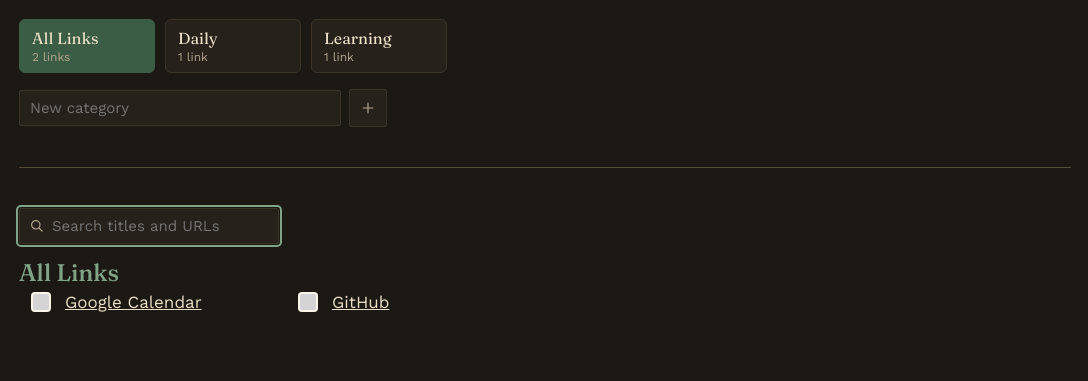
Test: UserFavorites: links › edits a link title and URL
Click the button "Daily 1 link": {"x": 233, "y": 46} [165,19,301,73]
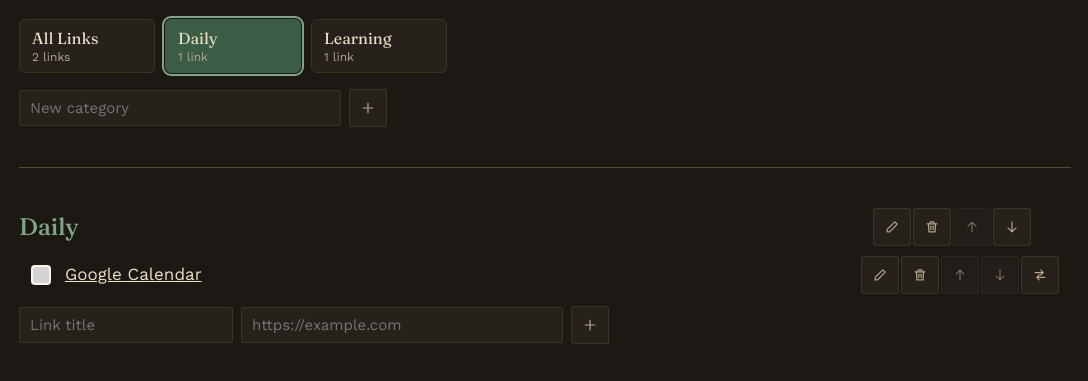
Click the button named "Rename link": {"x": 880, "y": 275} [861,256,899,294]
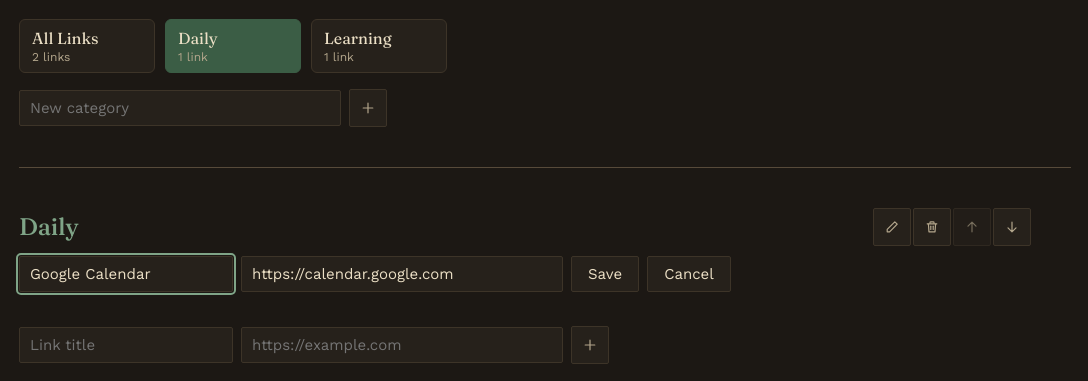
Replace the text in the 1st field showing "Google Calendar" with "Calendar": {"x": 126, "y": 274} [19,256,233,292]
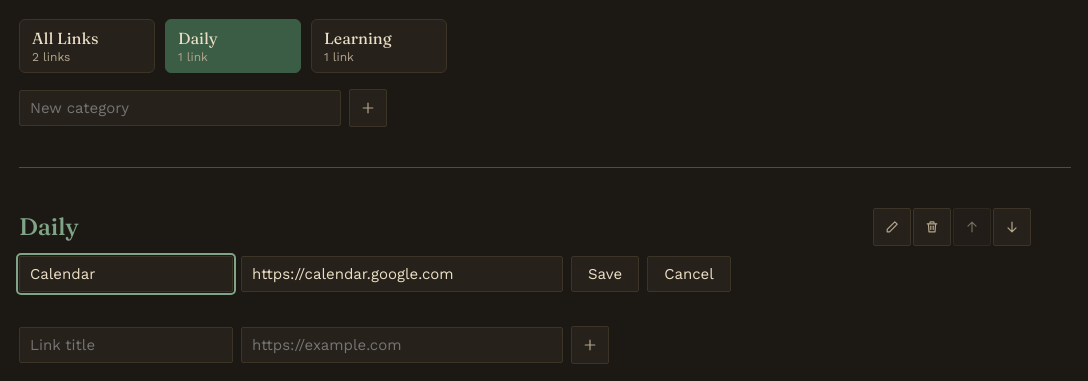
Replace the text in the 2nd field showing "https://calendar.google.com" with "https://calendar.google.com/r": {"x": 402, "y": 274} [241,256,563,292]
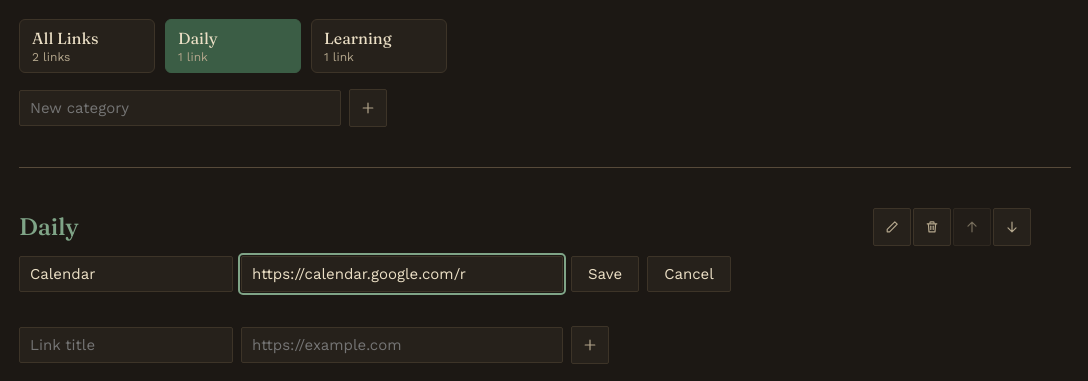
Click the button "Save": {"x": 605, "y": 274} [571,256,639,292]
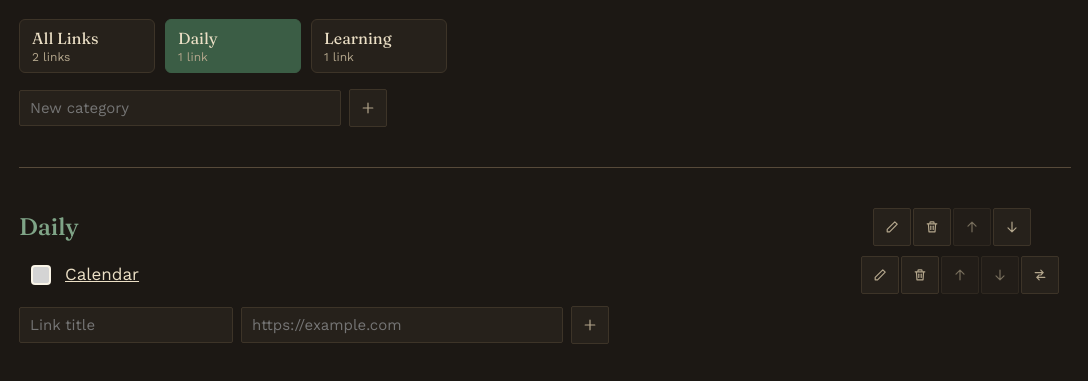
Expected: the link "Calendar" is shown, [65,264,139,284]
